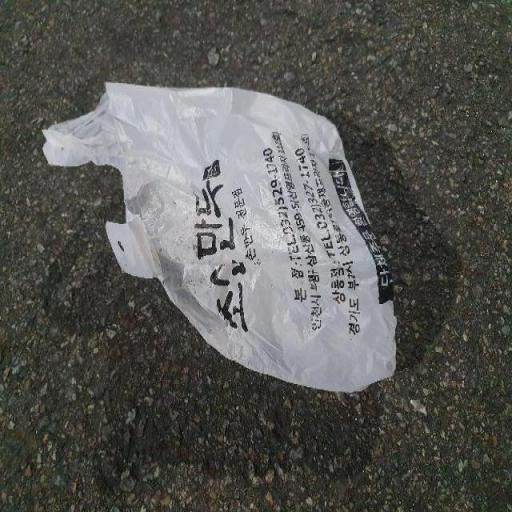plastic-bag: (40, 78, 398, 400)
